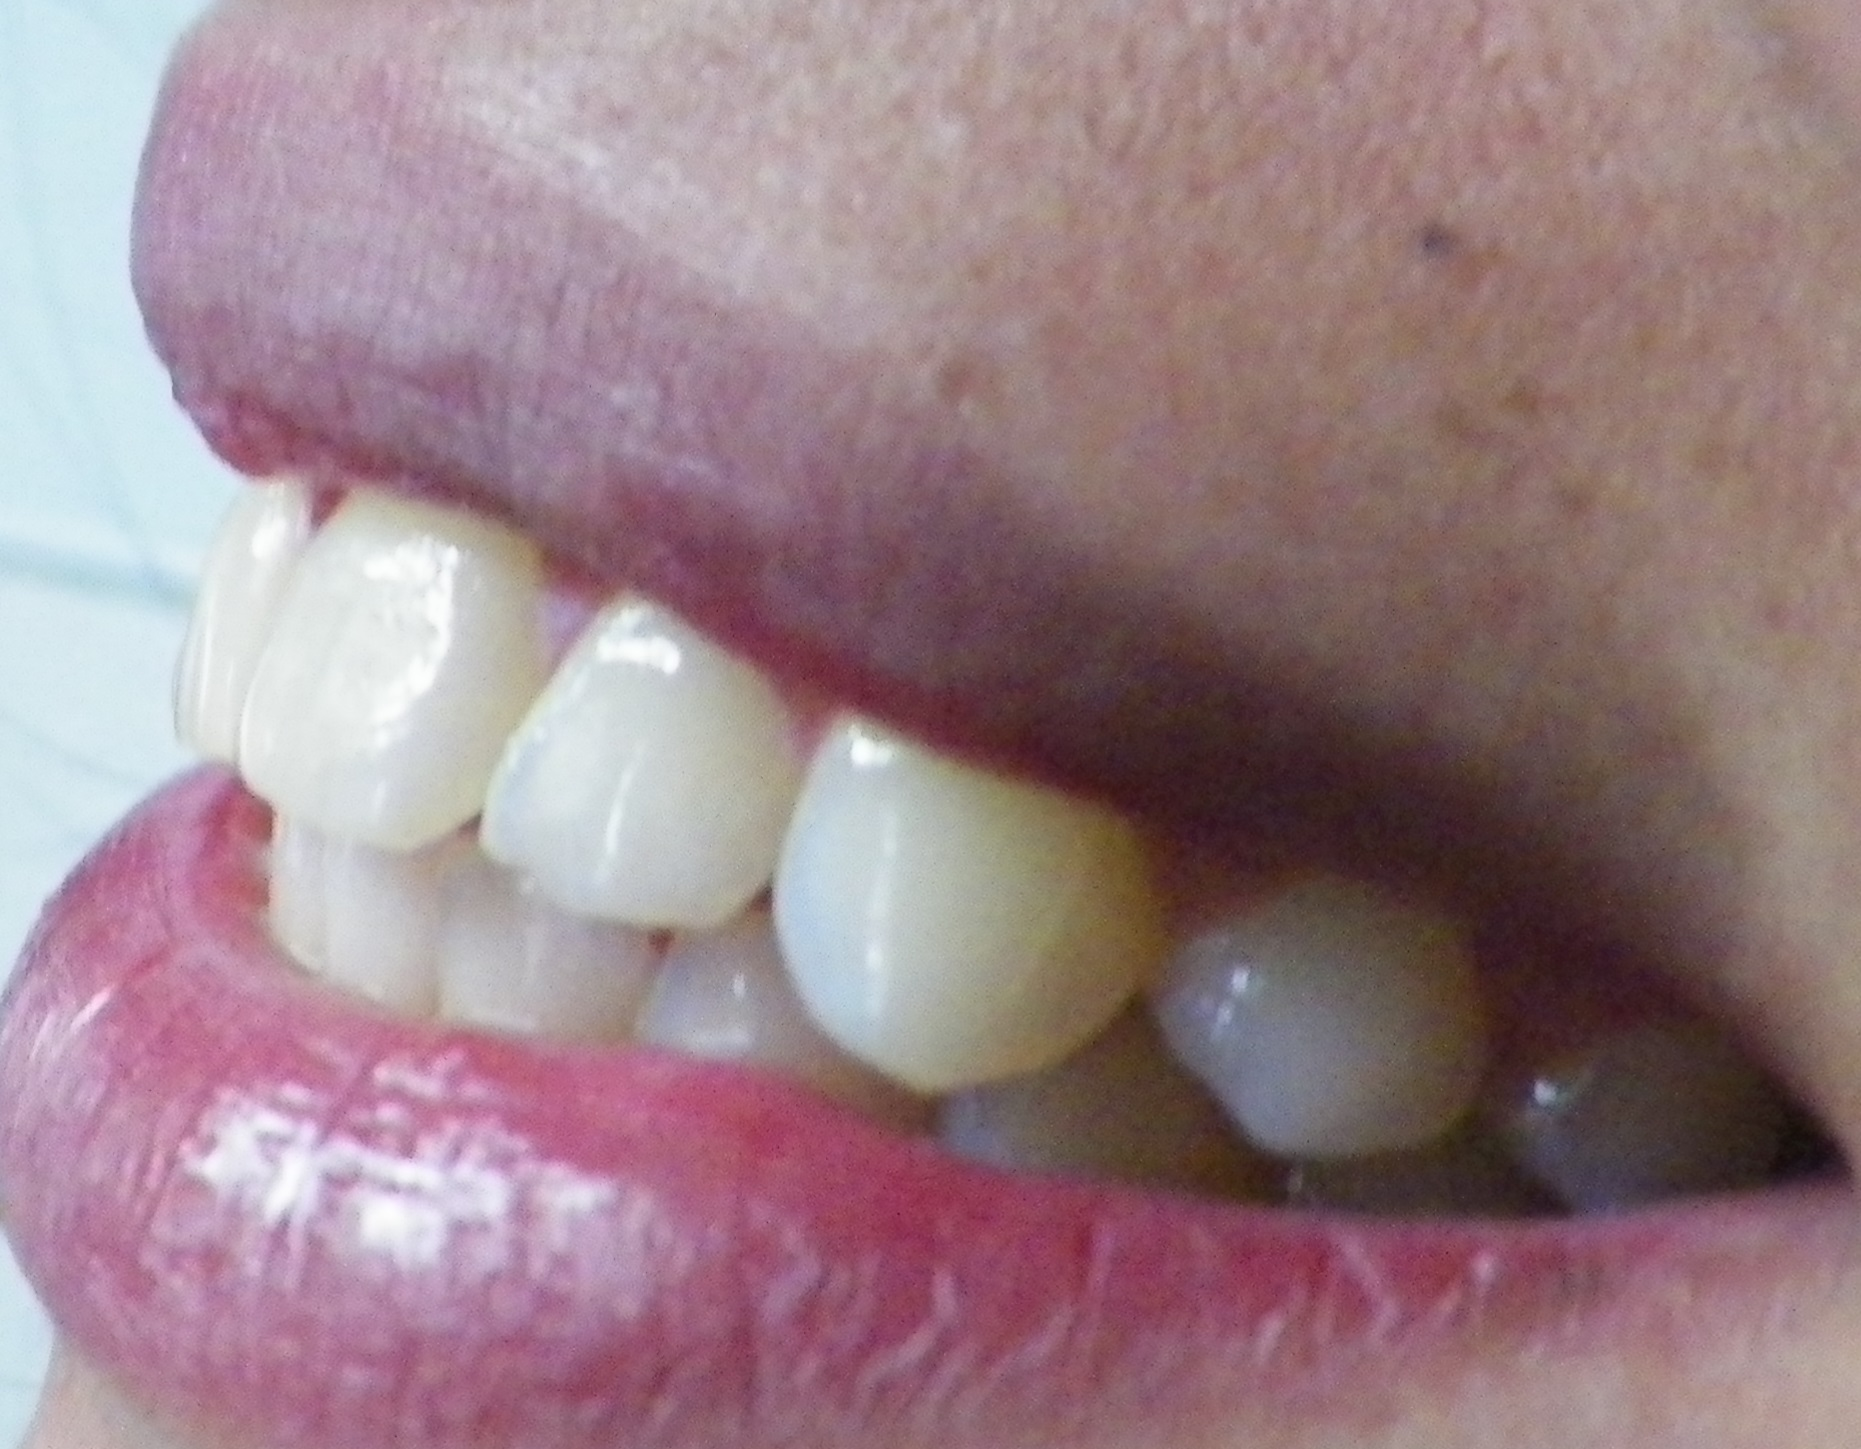boca: (166, 453, 1787, 1215)
